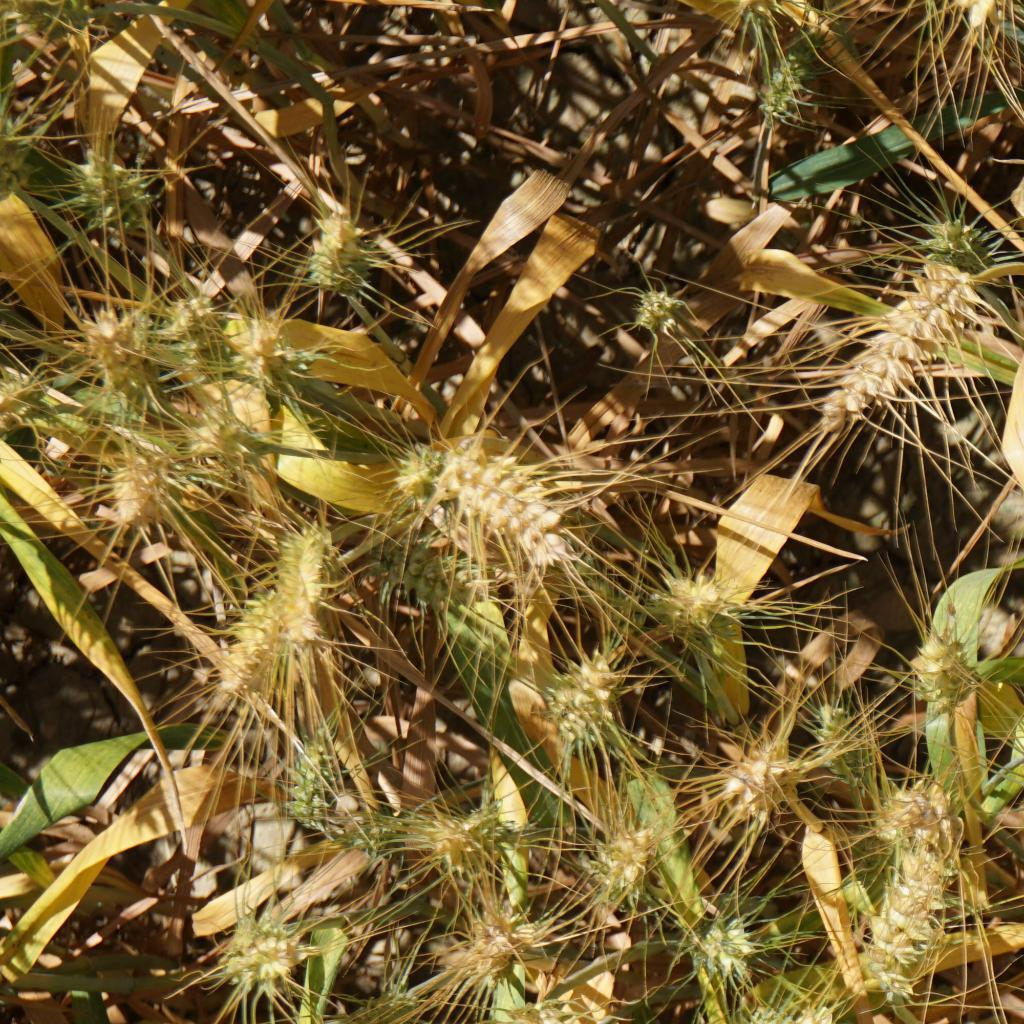0-0: (811, 267, 984, 452), (427, 439, 587, 591), (867, 832, 957, 1008), (359, 525, 499, 624), (534, 524, 648, 639), (156, 283, 256, 401), (537, 645, 629, 754), (228, 313, 324, 415), (380, 808, 512, 882), (207, 914, 316, 1003), (571, 818, 670, 915), (446, 896, 548, 990), (897, 623, 987, 726), (206, 578, 278, 704), (268, 518, 342, 635), (73, 135, 154, 238), (174, 394, 266, 483), (289, 203, 377, 293), (75, 304, 156, 397), (650, 563, 736, 648), (283, 731, 343, 849), (682, 912, 765, 991), (721, 745, 792, 837), (760, 33, 828, 123), (96, 451, 162, 543), (630, 270, 701, 353), (922, 192, 996, 271), (805, 704, 878, 782), (320, 977, 435, 1024), (343, 803, 423, 866), (871, 781, 954, 837), (0, 366, 63, 439), (726, 986, 844, 1024), (385, 439, 441, 497), (494, 991, 590, 1024)
